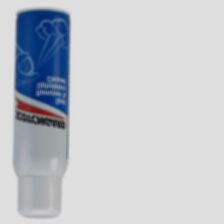aerosol_cans: (6, 5, 75, 221)
